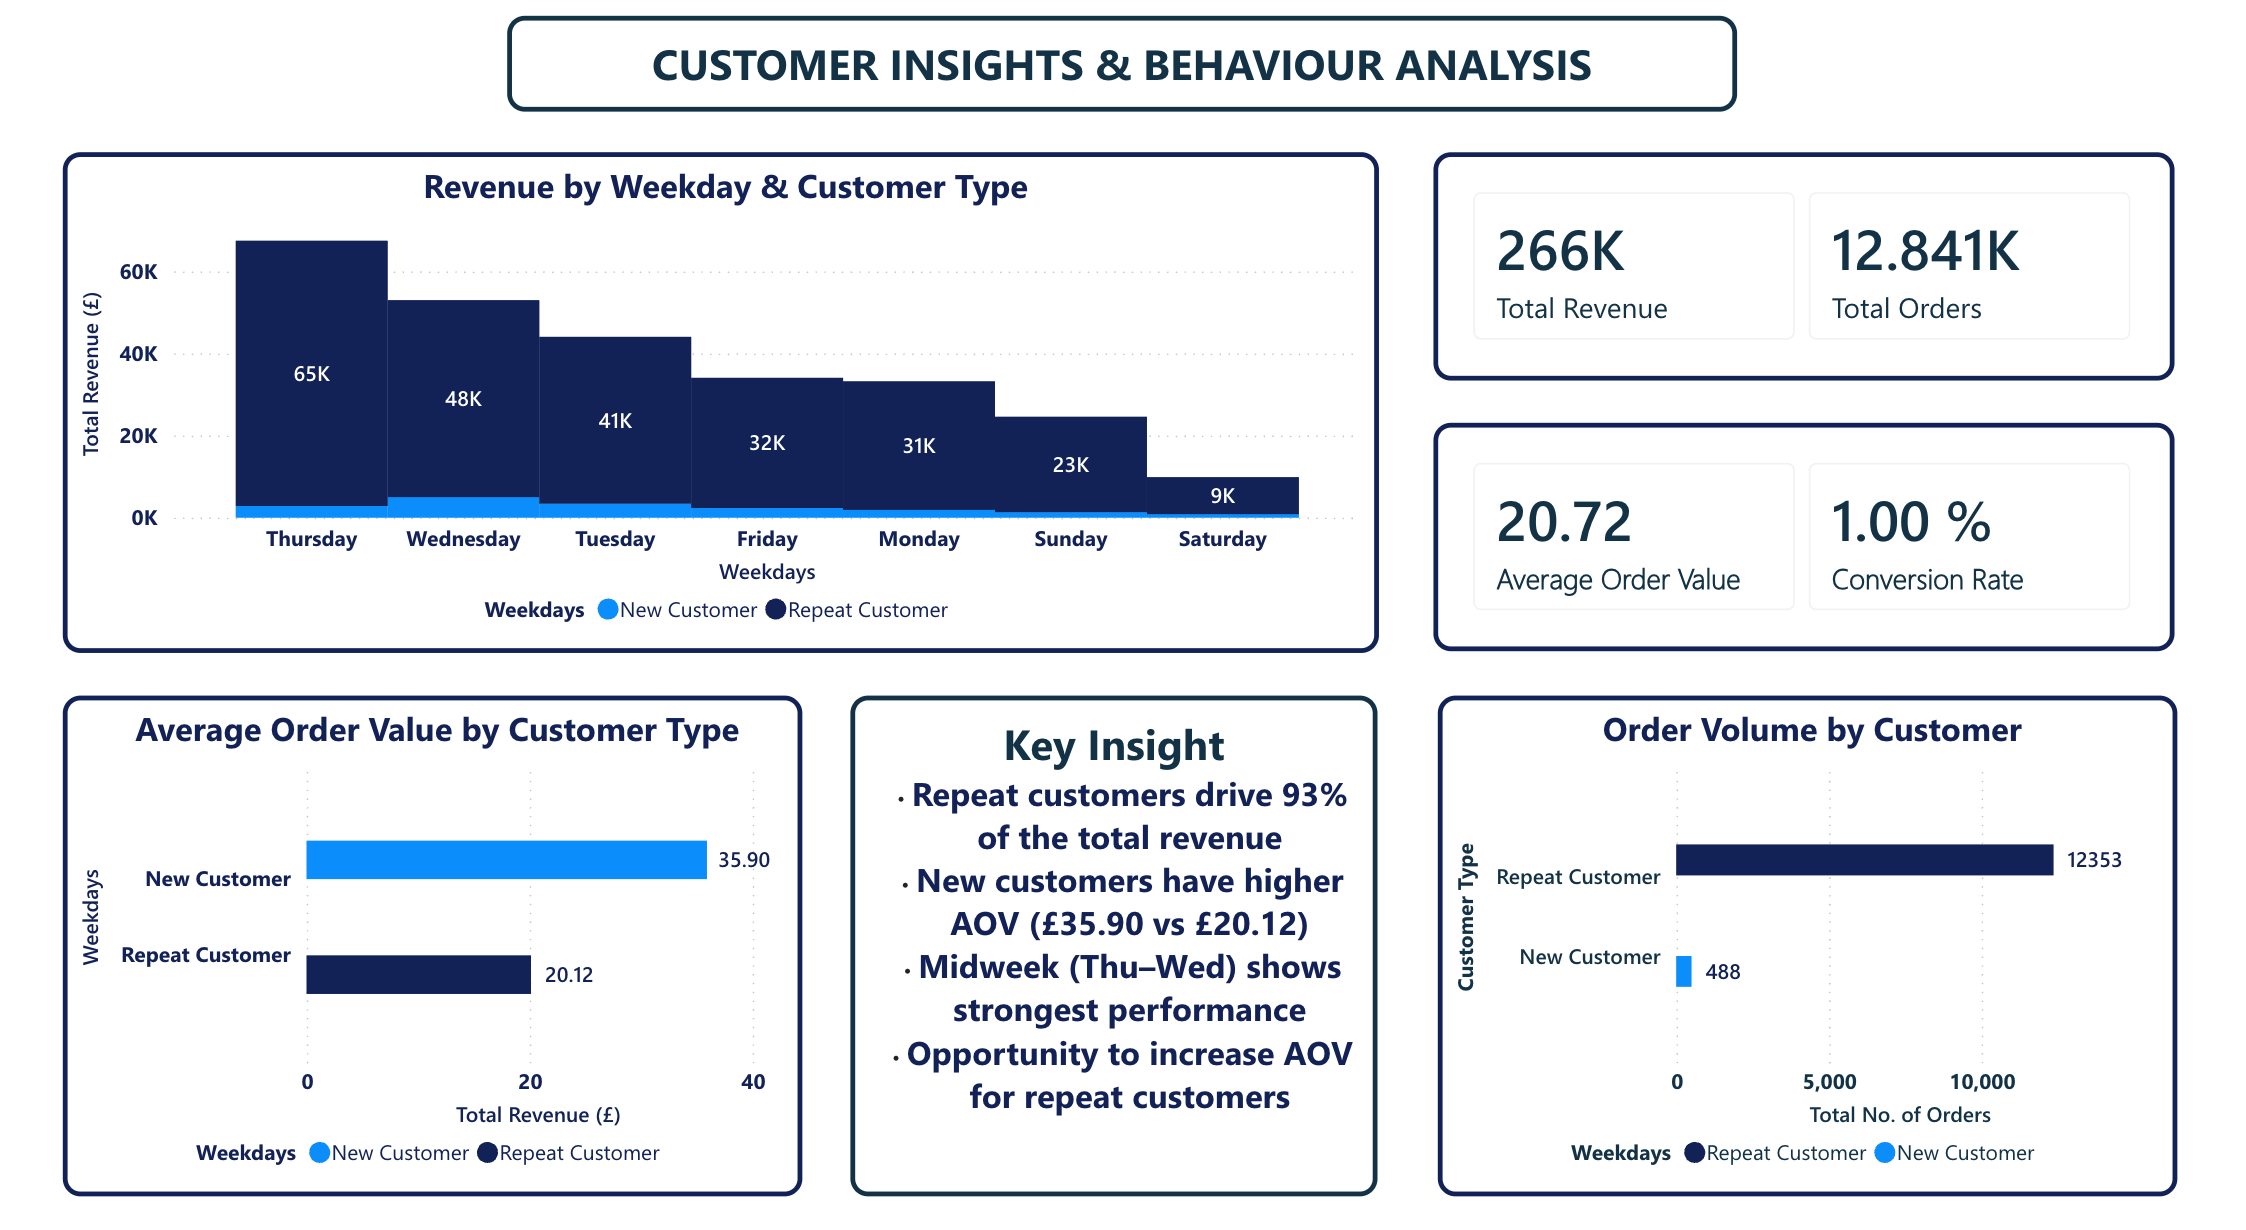

The page's visual inventory and layout, read from the dashboard file:
{"tool":"powerbi","page":{"name":"Customer Analysis","canvas":[1280,720],"ordinal":1},"visuals":[{"type":"clusteredBarChart","title":"Average Order Value by Customer Type","fields":{"Category":["online_retail_II.Customer Type"],"Series":["online_retail_II.Customer Type"],"Y":["online_retail_II.AOV"]},"box":[35.9,398.1,420.8,284.9],"z":0},{"type":"clusteredBarChart","title":"Order Volume by Customer","fields":{"Category":["online_retail_II.Customer Type"],"Y":["CountNonNull(online_retail_II.Invoice)"],"Series":["online_retail_II.Customer Type"]},"box":[818.9,398.1,420.8,284.9],"z":1000},{"type":"textbox","box":[288.7,11.3,700,54.7],"z":2000},{"type":"textbox","box":[484.9,398.1,300,284.9],"z":3000},{"type":"columnChart","title":"Revenue by Weekday & Customer Type","fields":{"Series":["online_retail_II.Customer Type"],"Category":["online_retail_II.Match Day"],"Y":["Sum(online_retail_II.Revenue)"]},"box":[35.9,88.7,749.1,284.9],"z":4000},{"type":"cardVisual","title":"Total Revenue by Weekdays","fields":{"Data":["Sum(online_retail_II.Revenue)","CountNonNull(online_retail_II.Invoice)"]},"box":[816.7,89.2,421.9,130.1],"z":5000},{"type":"cardVisual","title":"Total Revenue by Weekdays","fields":{"Data":["online_retail_II.AOV","online_retail_II.Conversion Rate"]},"box":[816.7,243.5,421.9,130.1],"z":6000}]}

Visuals, with their boxes in screenshot pixels (x1, y1, x2, y2), scaled from the page's 1280x720 canvas onto the 2246x1230 screenshot:
"Average Order Value by Customer Type" clusteredBarChart: 63, 680, 801, 1167
"Order Volume by Customer" clusteredBarChart: 1437, 680, 2175, 1167
textbox: 507, 19, 1735, 113
textbox: 851, 680, 1377, 1167
"Revenue by Weekday & Customer Type" columnChart: 63, 152, 1377, 638
"Total Revenue by Weekdays" cardVisual: 1433, 152, 2173, 375
"Total Revenue by Weekdays" cardVisual: 1433, 416, 2173, 638
